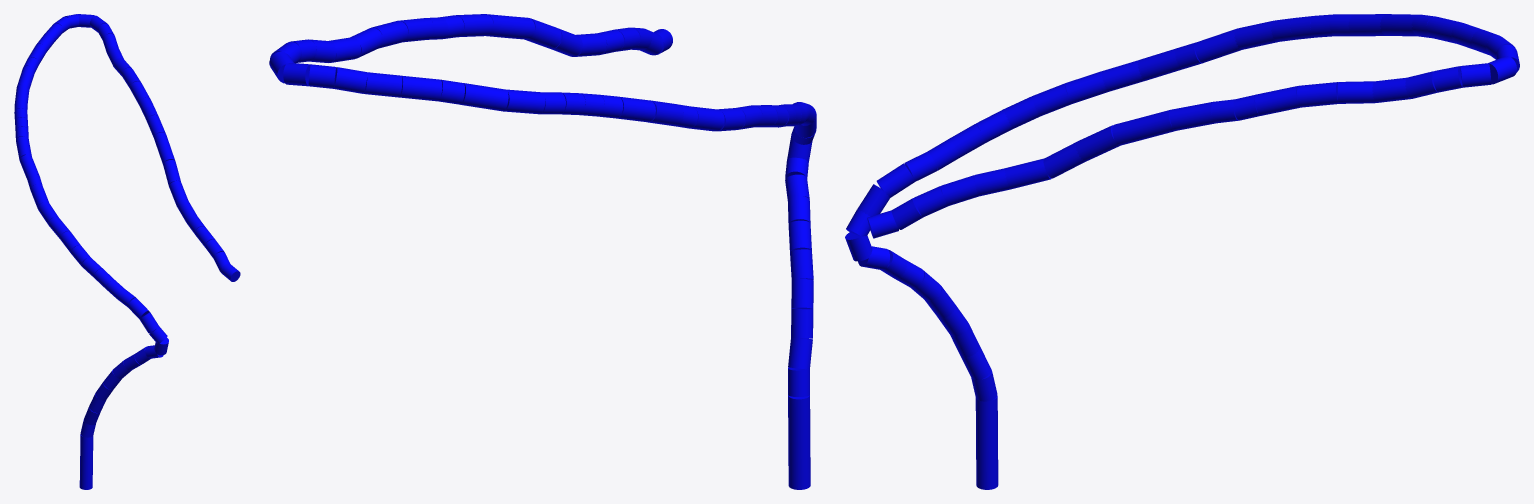
The picture shows the model from 3 angles, left to right: view 1: azimuth 30°, elevation 25°; view 2: azimuth 150°, elevation 25°; view 3: azimuth 270°, elevation 25°; orthographic projection. The views are drawn at different scales.
Parts seen in each view (by area): view 1: Cylinder(Clone) (×13); view 2: Cylinder(Clone) (×22); view 3: Cylinder(Clone) (×21).
Boxes of the visible parts, x1,y1,x2,y2 form: Cylinder(Clone) (×13): (16, 66, 196, 489); Cylinder(Clone) (×22): (283, 14, 813, 489); Cylinder(Clone) (×21): (876, 14, 1418, 489).
Size of the model in its own units: 0.1497 by 0.2767 by 0.3068.
